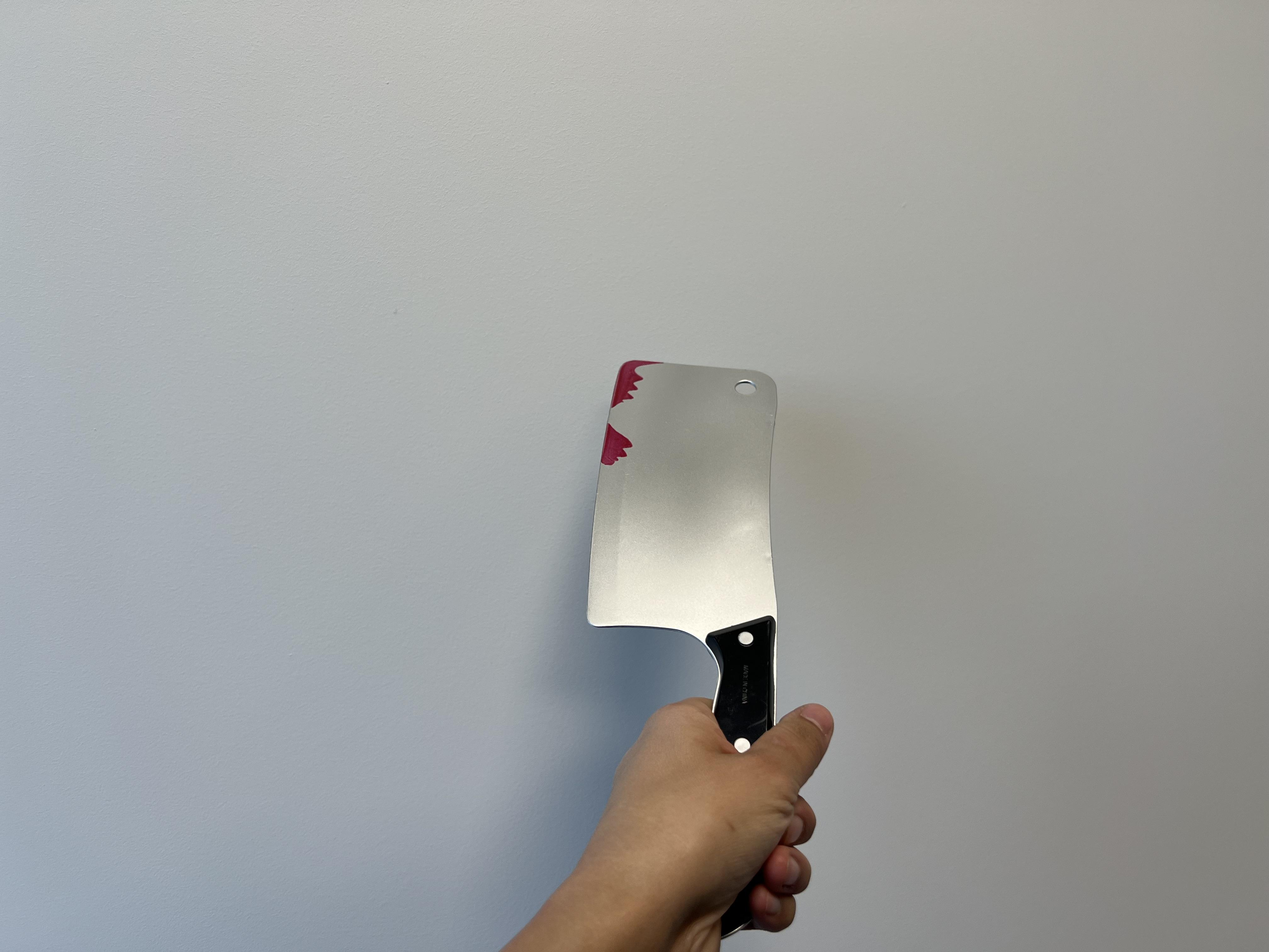Knife: (498, 696, 836, 952), (589, 360, 787, 744), (604, 696, 838, 952)
